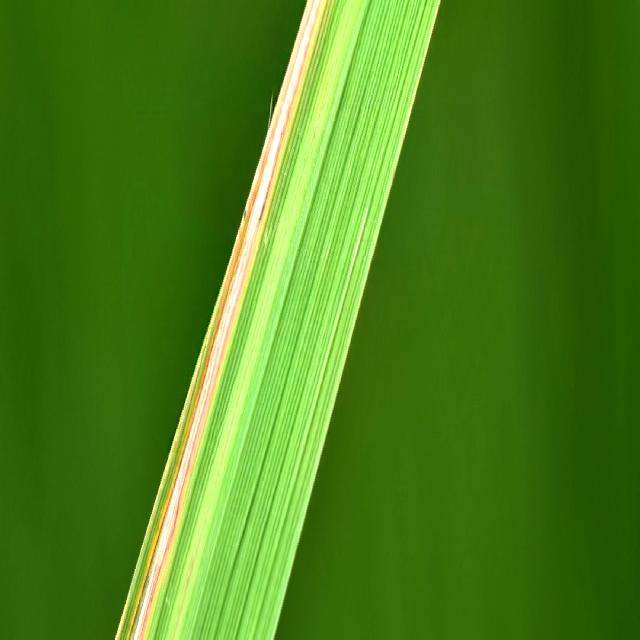BLB: (127, 0, 328, 640)
